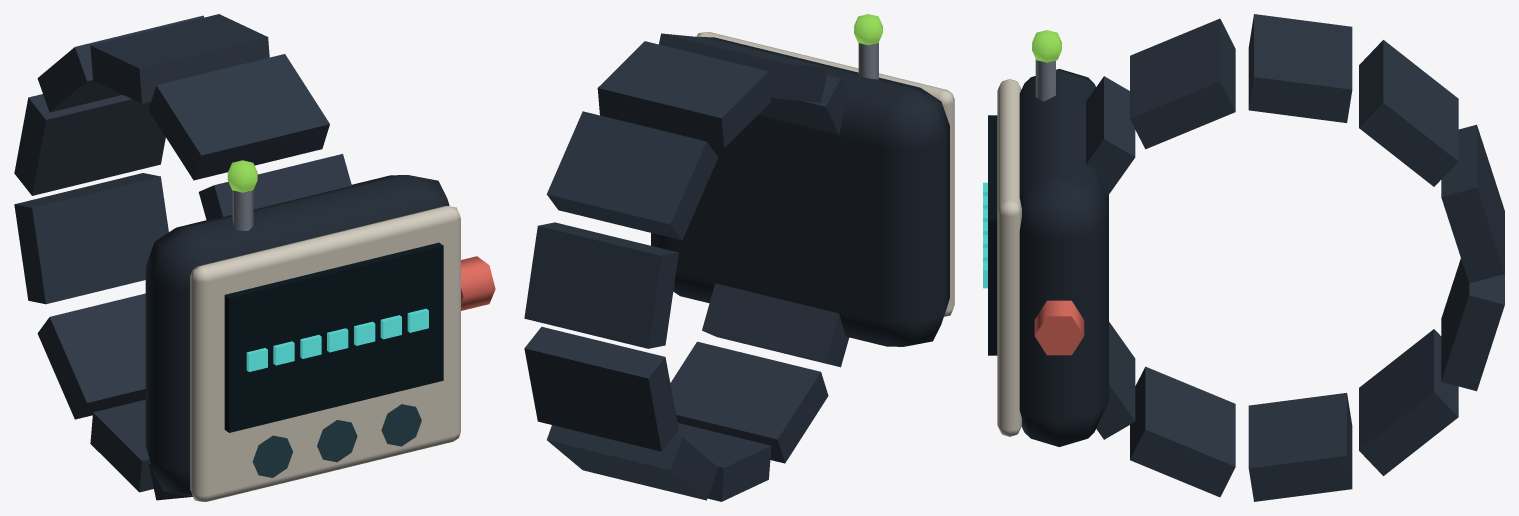
Rendered from comunicador.glb.
3 renders of one model, left to right at view 1: azimuth 30°, elevation 25°; view 2: azimuth 150°, elevation 25°; view 3: azimuth 270°, elevation 25°, orthographic. The views are drawn at different scales.
Parts seen in each view (by area): view 1: comunicador_malha, led_oficina_apagado_malha, led_ponte_apagado_malha, led_treinamento_apagado_malha, antena_luz_malha; view 2: comunicador_malha, antena_luz_malha; view 3: comunicador_malha, antena_luz_malha.
Part boxes in pixels (<box>): comunicador_malha: <box>14,14,495,501</box>; led_oficina_apagado_malha: <box>381,404,421,446</box>; led_ponte_apagado_malha: <box>252,435,292,477</box>; led_treinamento_apagado_malha: <box>317,420,357,462</box>; antena_luz_malha: <box>227,160,257,192</box>; comunicador_malha: <box>524,32,954,501</box>; antena_luz_malha: <box>854,14,882,45</box>; comunicador_malha: <box>988,14,1504,501</box>; antena_luz_malha: <box>1032,30,1061,62</box>.
Size of the model in its own units: 0.062 by 0.0755 by 0.0841.
